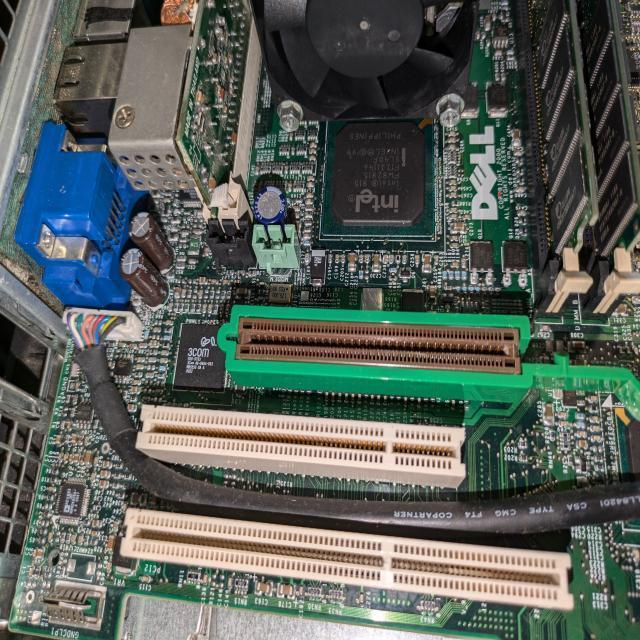CPU_Fan: (248, 0, 479, 133)
Mainboard: (8, 0, 640, 640)
RAM: (576, 0, 640, 268), (530, 0, 598, 251)
